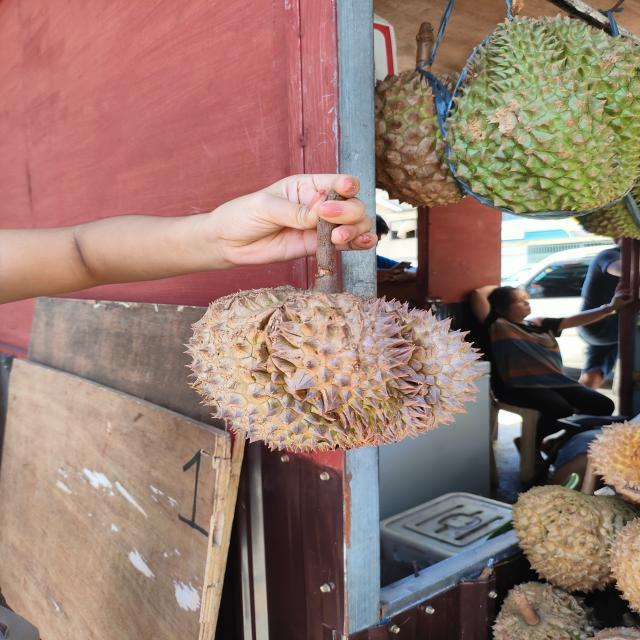mature: (183, 284, 487, 454)
